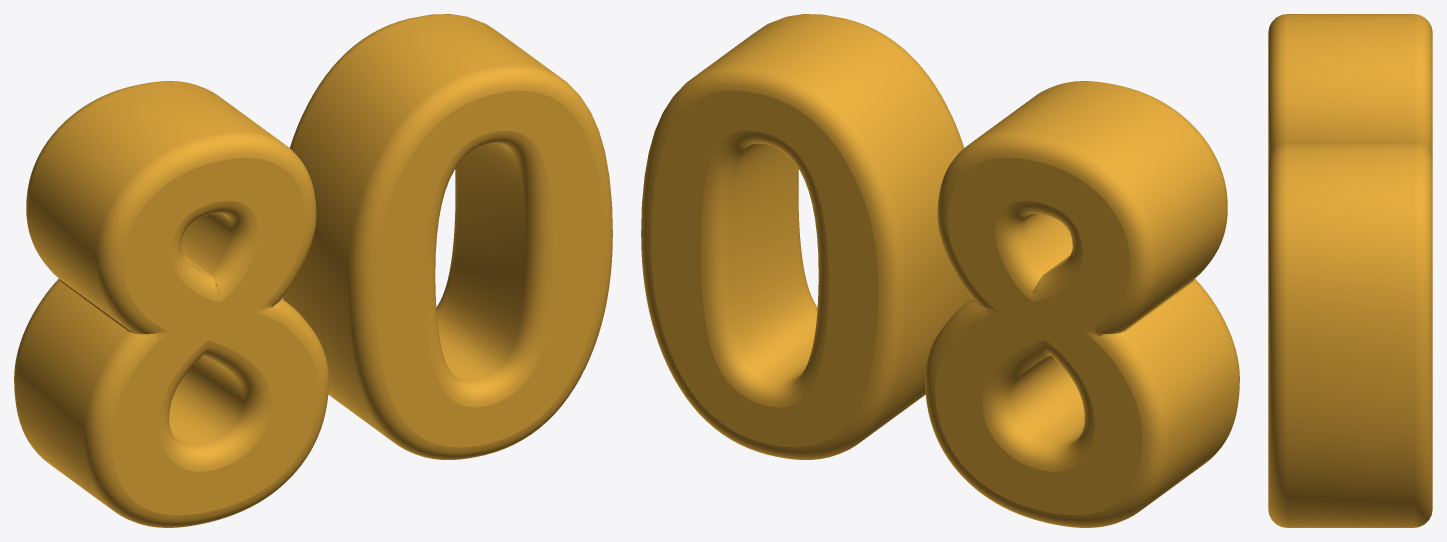
3 views of the same model, side by side, from view 1: azimuth 30°, elevation 25°; view 2: azimuth 150°, elevation 25°; view 3: azimuth 270°, elevation 25° (orthographic). The views are drawn at different scales.
Visible parts, largest first — view 1: Text; view 2: Text; view 3: Text.
Boxes of the visible parts, x1,y1,x2,y2 form: Text: (14,14,612,527); Text: (641,14,1239,527); Text: (1268,14,1432,527).
Bounding box in the file's own units: 90.21 × 63.03 × 26.
